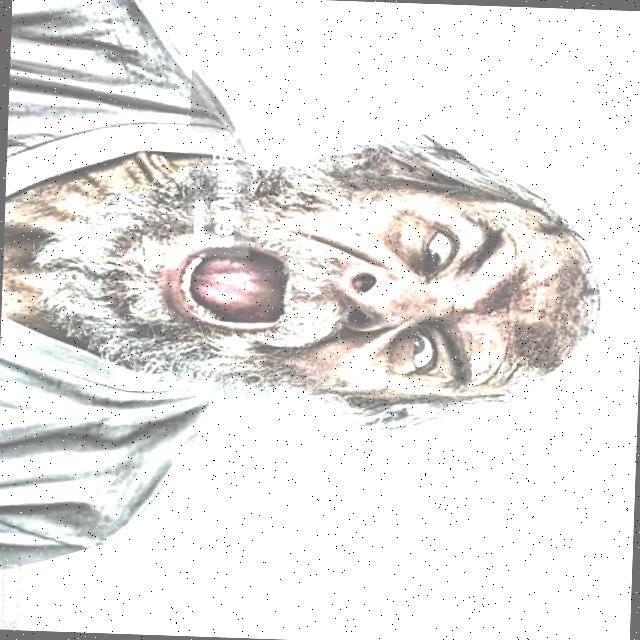angry: (10, 123, 604, 453)
